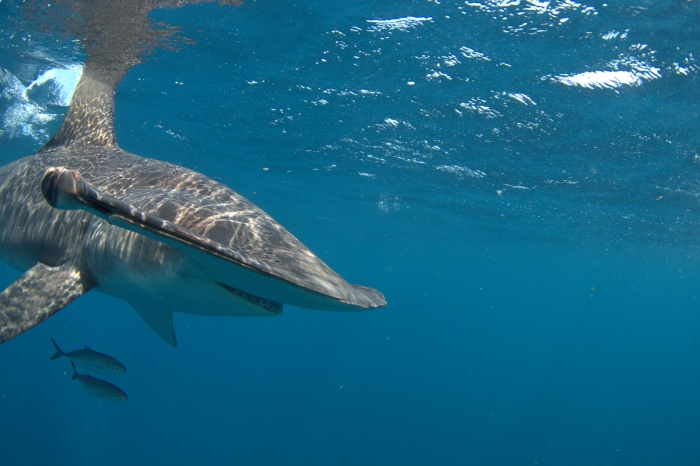Hammer: (1, 47, 383, 384)
